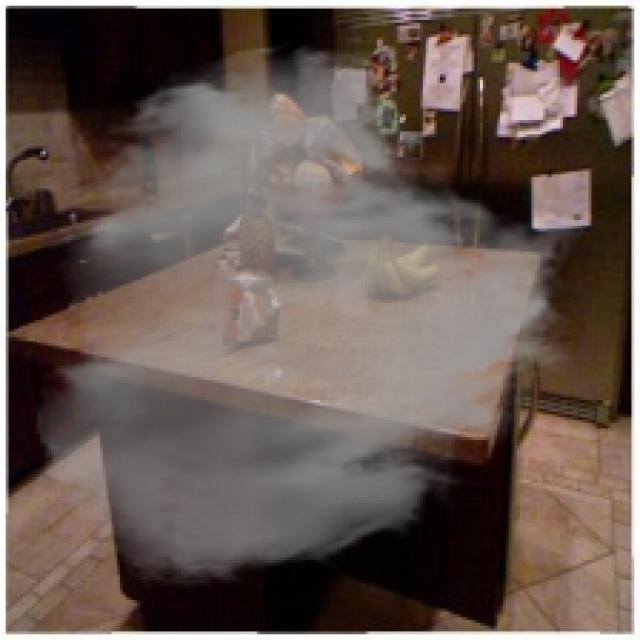Smoke: (31, 39, 588, 592)
